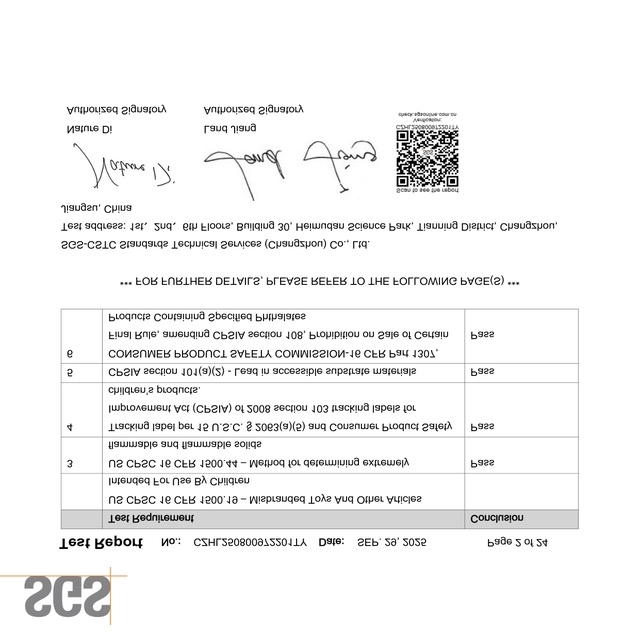sgs: (23, 576, 110, 618)
